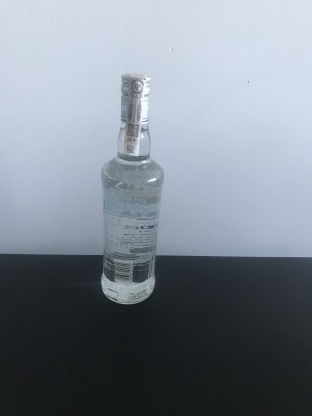nakretka: (117, 69, 153, 128)
